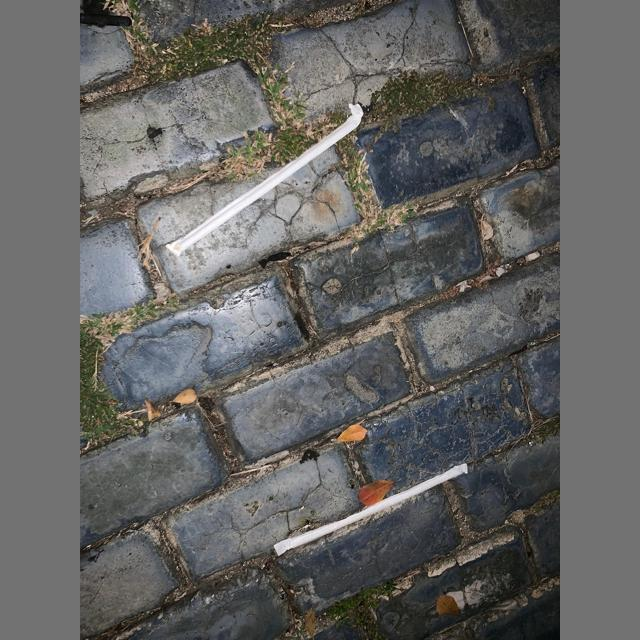litter: (164, 103, 365, 255), (179, 122, 358, 249), (274, 464, 467, 555)
